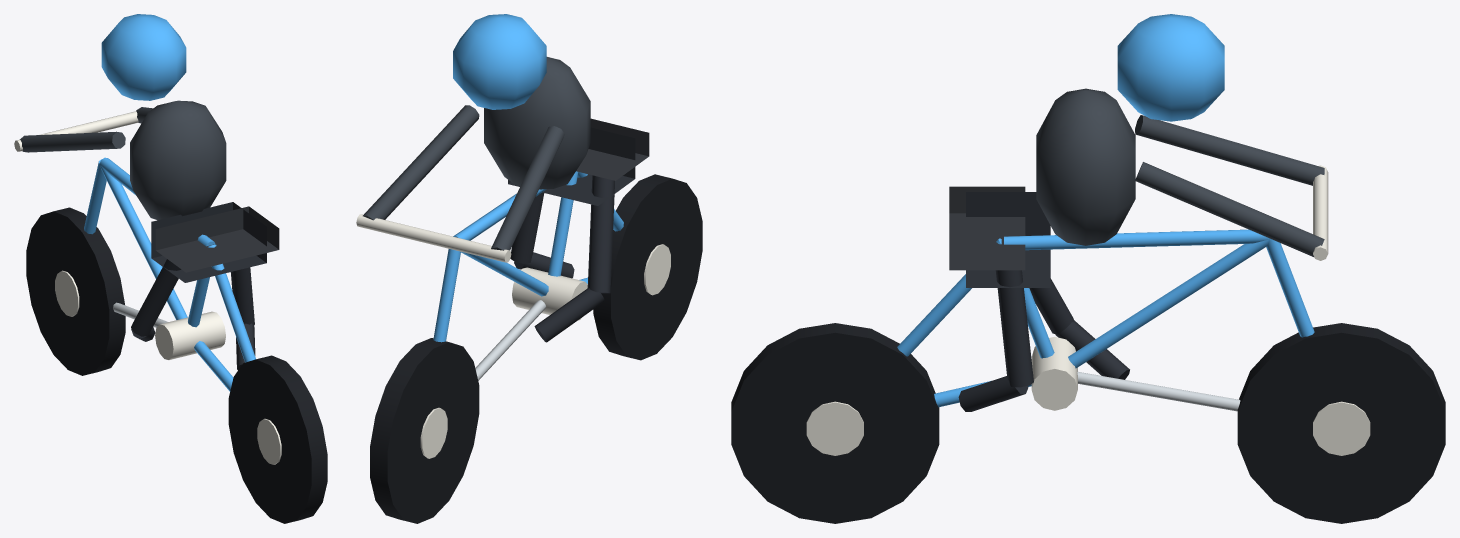
File: bike-rider.gltf
The picture shows the model from 3 angles, left to right: view 1: azimuth 30°, elevation 25°; view 2: azimuth 150°, elevation 25°; view 3: azimuth 270°, elevation 25°; orthographic projection. The views are drawn at different scales.
Visible parts, largest first — view 1: bike_rider; view 2: bike_rider; view 3: bike_rider.
Part boxes in pixels (bbox=[...]): bike_rider: bbox=[14, 14, 327, 523]; bike_rider: bbox=[356, 14, 702, 523]; bike_rider: bbox=[731, 14, 1445, 523].
Bounding box in the file's own units: 0.46 × 1.31 × 1.69.
